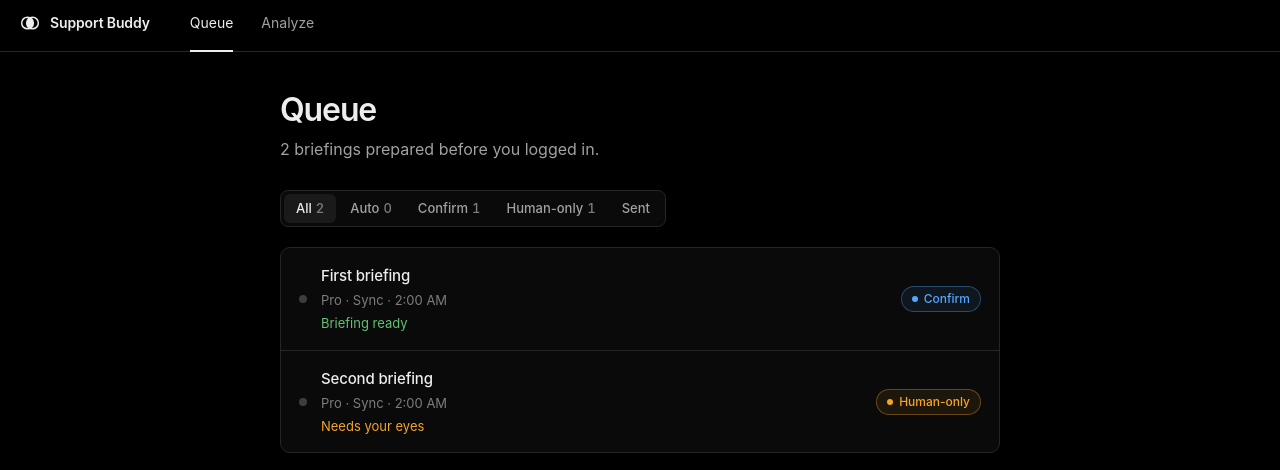
Test case: Queue filters and the Sent tab › filters the queue by autonomy level
Expected: the heading "First briefing" is shown, [321,266,410,285]
Click the tab "Human-only1" at (551, 209), box [494,194,608,223]
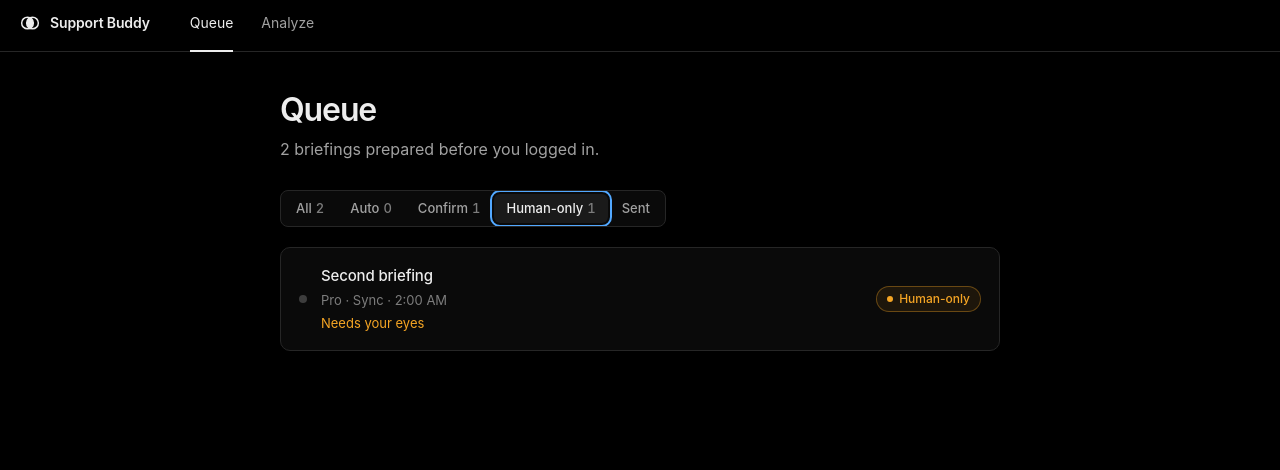
Expected: the heading "Second briefing" is shown, [321,266,433,285]
Result: the button "First briefing" is gone
